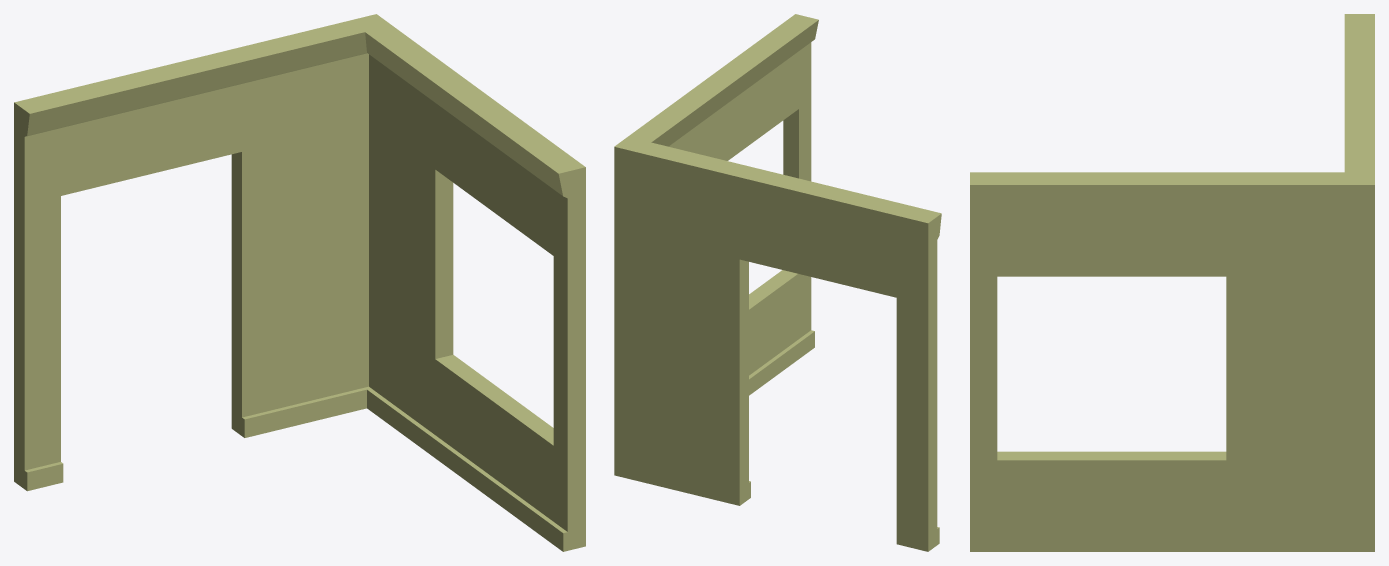
Rendered from Wal_4_10.fbx.
3 renders of one model, left to right at view 1: azimuth 30°, elevation 25°; view 2: azimuth 150°, elevation 25°; view 3: azimuth 270°, elevation 25°, orthographic. The views are drawn at different scales.
Parts seen in each view (by area): view 1: polySurface1978; view 2: polySurface1978; view 3: polySurface1978.
Part boxes in pixels (<box>): polySurface1978: <box>14,14,585,551</box>; polySurface1978: <box>614,14,941,551</box>; polySurface1978: <box>970,14,1374,551</box>.
Size of the model in its own units: 4 by 4 by 4.
1 material, 1 textured.
